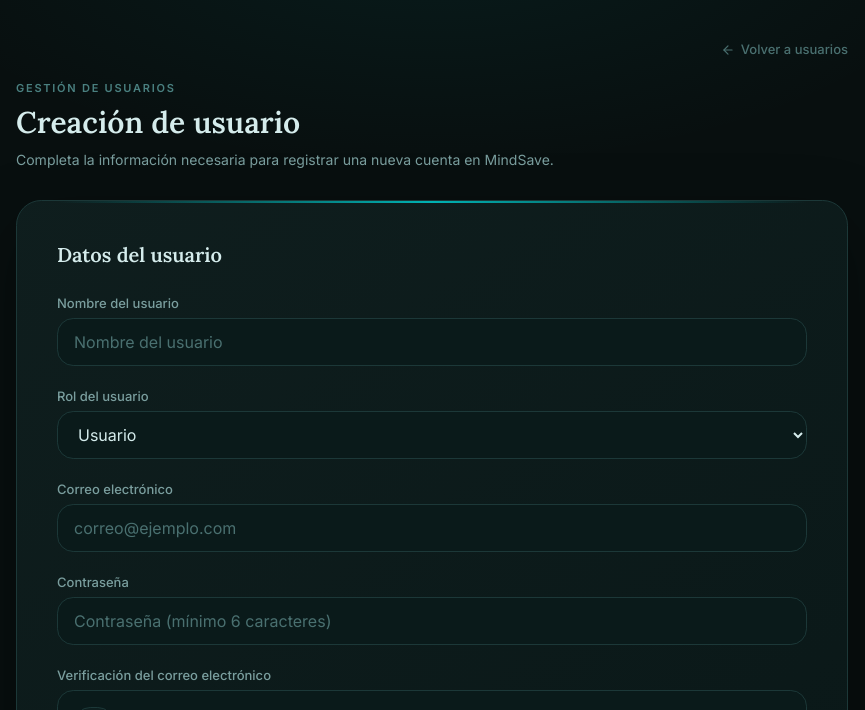
it: Formularios de usuario › Creación › CP-ADW-41 Validar 'Correo electrónico' con el valor 'correo-invalido'
In the field labelled "Nombre del usuario": (432, 342) [57, 318, 807, 366], type "  Nuevo Paciente  "
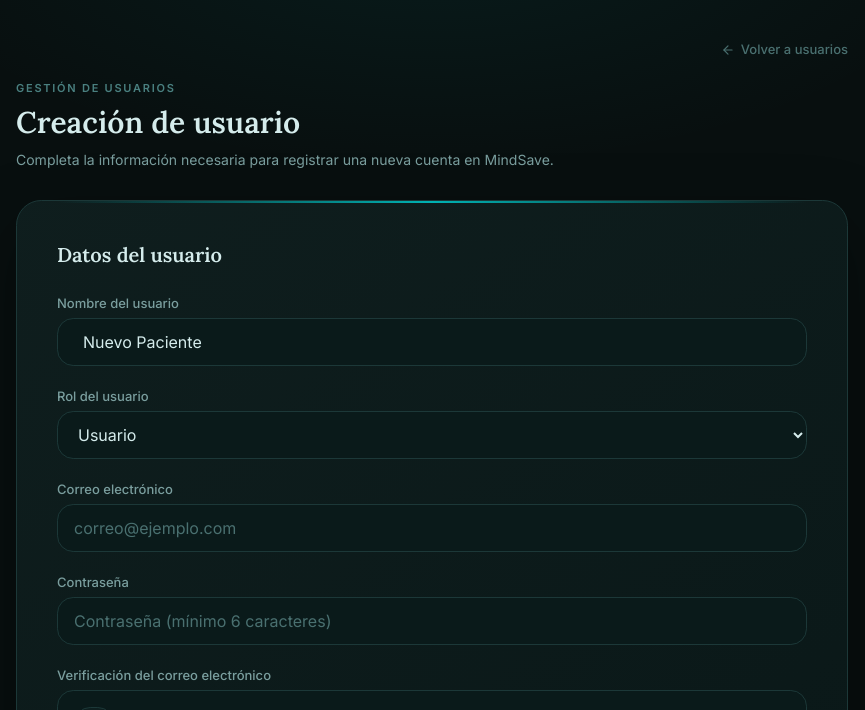
In the field labelled "Correo electrónico": (432, 528) [57, 504, 807, 552], type "nuevo@mindsave.test"
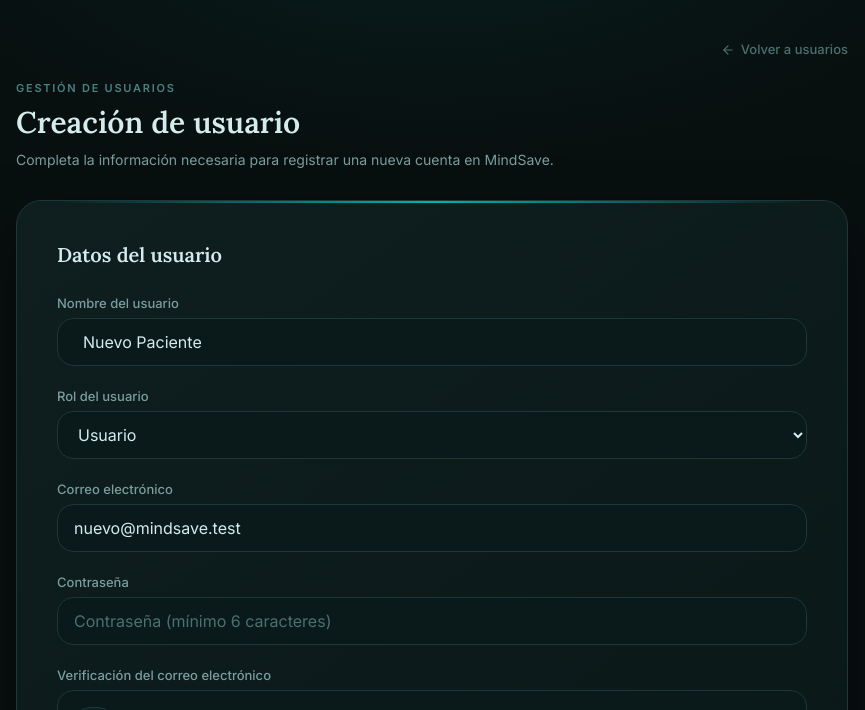
In the password field labelled "Contraseña": (432, 621) [57, 597, 807, 645], type "Prueba123"
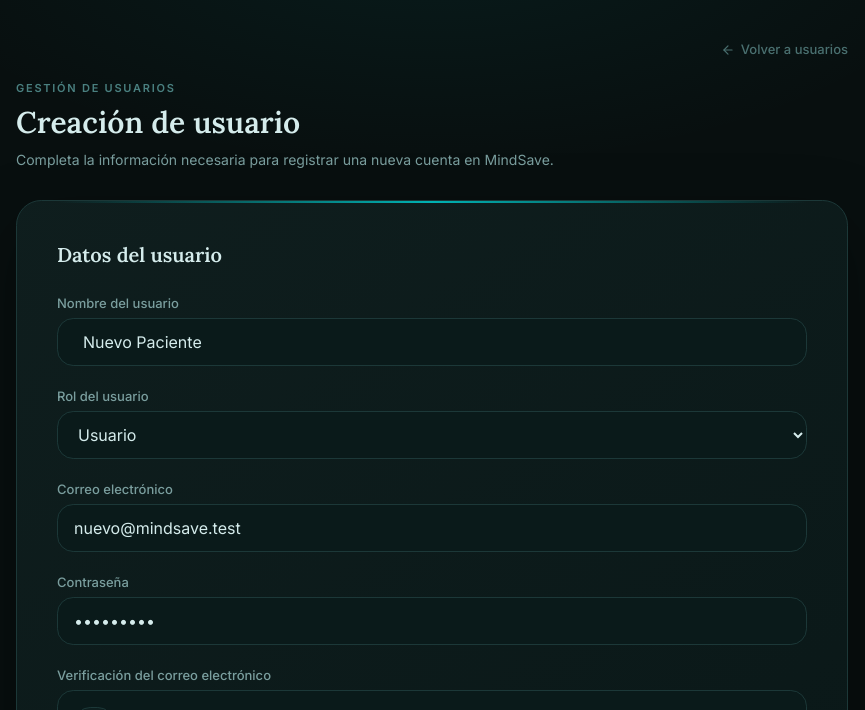
Replace the text in the field labelled "Correo electrónico" with "correo-invalido": (432, 528) [57, 504, 807, 552]
(page scrolled)
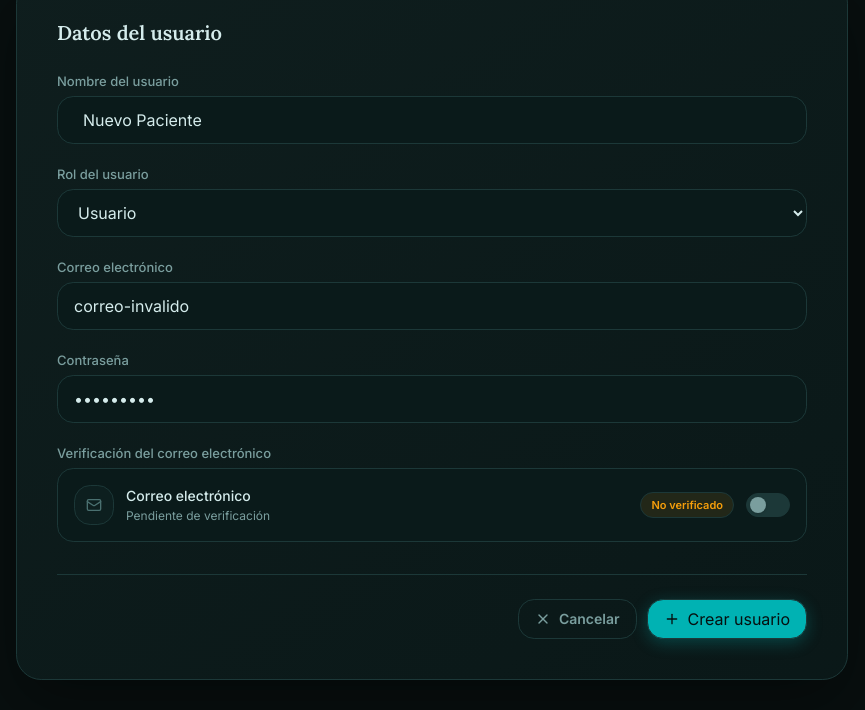
Click the button "Crear usuario": click(727, 619) [647, 599, 807, 639]
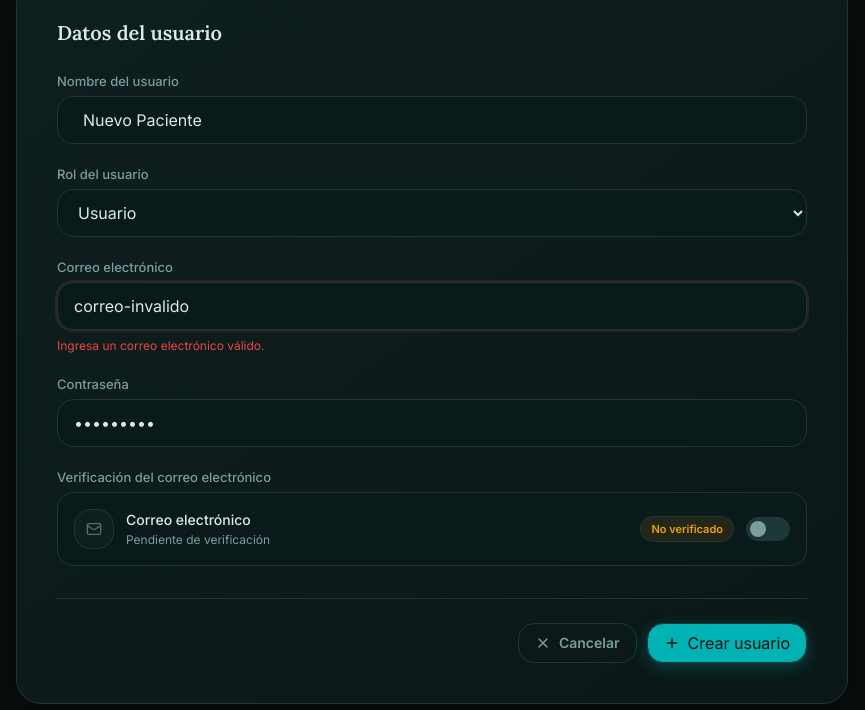
Now the text "Ingresa un correo electrónico válido." is shown, box [57, 338, 264, 353]
